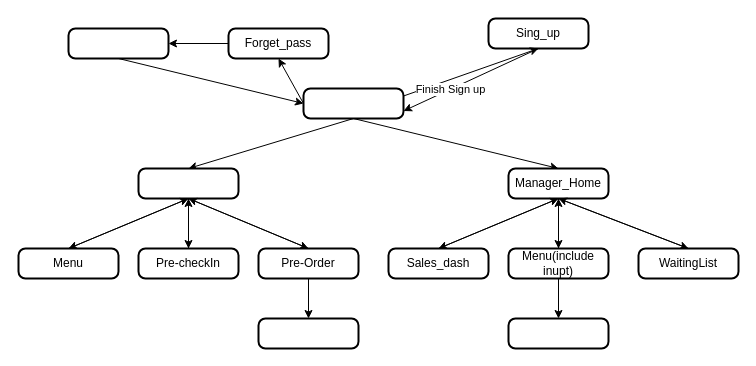
Some shapes in this 756 by 366 pixel diagram are drawn without their labels. The shapes that lost their labels are listed below. From the top down, each one's centre as x and y in pixels, then its label:
the point at 118,43: Reset_Pass
the point at 353,103: LogIn
the point at 188,183: Customer_Home
the point at 308,333: Check_out?
the point at 558,333: Menu_input
